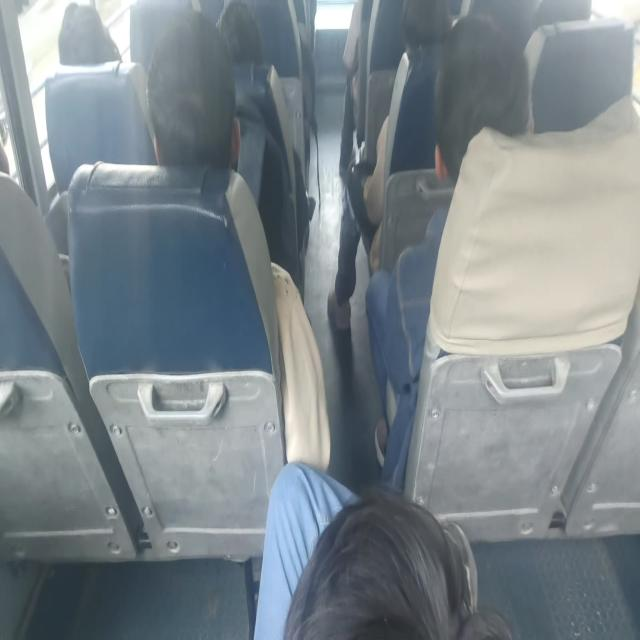person: (145, 10, 331, 470), (364, 13, 534, 483), (253, 460, 511, 638), (327, 0, 452, 331), (57, 1, 122, 66)
